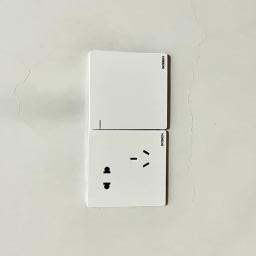outlet: (85, 129, 169, 214)
